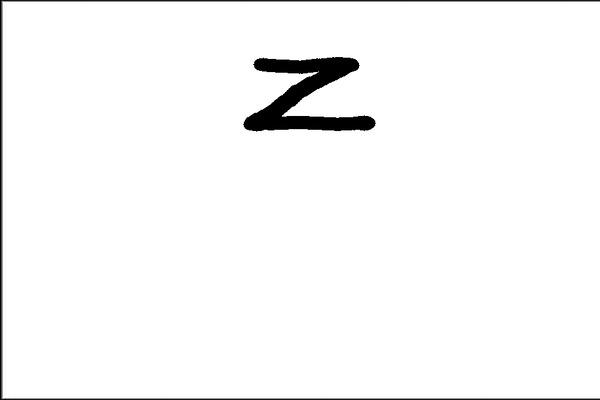Z: (236, 46, 381, 142)
